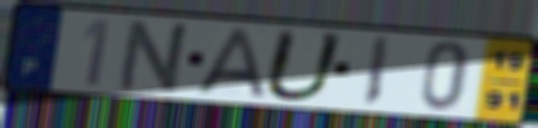0: (420, 39, 477, 115)
1: (81, 18, 112, 88)
A: (193, 26, 268, 99)
I: (359, 34, 393, 109)
N: (113, 18, 197, 96)
U: (259, 26, 350, 105)
